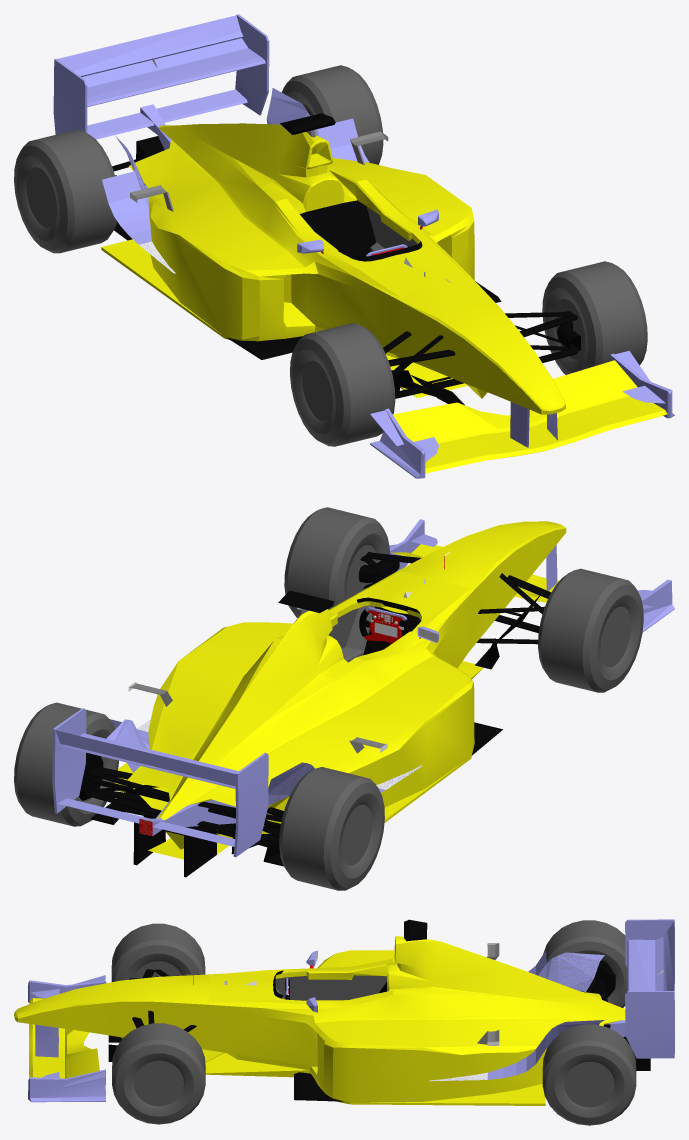
3 views of the same model, one above another, from view 1: azimuth 30°, elevation 25°; view 2: azimuth 150°, elevation 25°; view 3: azimuth 270°, elevation 25° (orthographic). The views are drawn at different scales.
Parts seen in each view (by area): view 1: SketchUp.027, SketchUp, SketchUp.136, SketchUp.132, SketchUp.025, SketchUp.007, SketchUp.009, SketchUp.134, SketchUp.011, SketchUp.109, SketchUp.016, SketchUp.118 (+13 smaller); view 2: SketchUp.027, SketchUp, SketchUp.136, SketchUp.132, SketchUp.134, SketchUp.015, SketchUp.012, SketchUp.011, SketchUp.057, SketchUp.016, SketchUp.096, SketchUp.009 (+16 smaller); view 3: SketchUp.027, SketchUp.134, SketchUp.132, SketchUp, SketchUp.012, SketchUp.136, SketchUp.098, SketchUp.009, SketchUp.024, SketchUp.102, SketchUp.025, SketchUp.007 (+9 smaller).
Part boxes in pixels (x1,y1,x2,y2): SketchUp.027: (101,123,565,414); SketchUp: (290,323,395,446); SketchUp.136: (14,129,117,253); SketchUp.132: (542,261,647,374); SketchUp.025: (392,360,637,443); SketchUp.007: (425,396,667,473); SketchUp.009: (82,38,265,106); SketchUp.134: (281,65,383,164); SketchUp.011: (57,15,243,76); SketchUp.109: (300,200,376,260); SketchUp.016: (87,89,247,139); SketchUp.118: (102,171,151,244); SketchUp.027: (115,521,566,859); SketchUp: (538,568,643,692); SketchUp.136: (279,767,384,890); SketchUp.132: (284,507,389,617); SketchUp.134: (14,702,118,826); SketchUp.015: (233,752,268,857); SketchUp.012: (52,708,86,813); SketchUp.011: (55,730,235,786); SketchUp.057: (133,818,235,877); SketchUp.016: (57,798,234,846); SketchUp.096: (328,605,374,662); SketchUp.009: (61,733,238,788); SketchUp.027: (14,936,625,1105); SketchUp.134: (542,1024,636,1125); SketchUp.132: (112,1023,205,1124); SketchUp: (111,923,205,981); SketchUp.012: (625,991,674,1058); SketchUp.136: (543,920,627,1007); SketchUp.098: (275,975,386,1000); SketchUp.009: (627,937,663,991); SketchUp.024: (28,1069,105,1102); SketchUp.102: (538,952,604,991); SketchUp.025: (65,1028,99,1078); SketchUp.007: (29,998,64,1078).
Bounding box in the file's own units: 0.4016 × 0.8888 × 0.2049.
